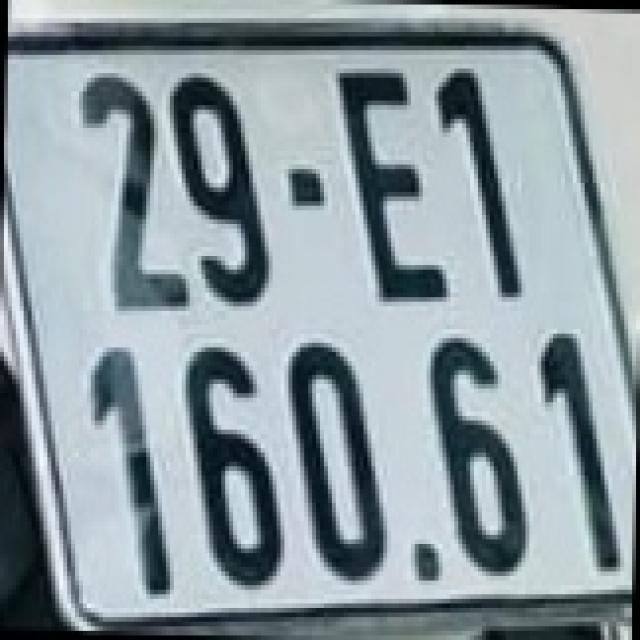0: (288, 334, 392, 580)
1: (537, 329, 628, 572), (87, 343, 174, 594), (438, 64, 530, 297)
2: (77, 66, 192, 313)
6: (426, 334, 534, 576), (182, 343, 284, 590)
7: (537, 329, 628, 572)
9: (174, 68, 276, 306)
E: (334, 60, 452, 306)
